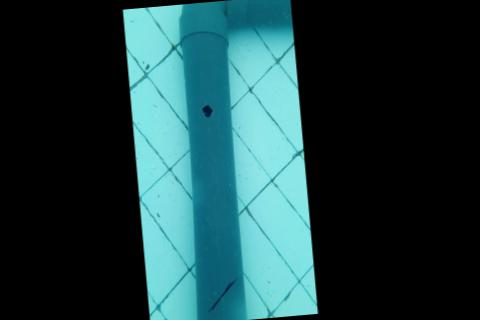kebocoran: (200, 102, 213, 120)
keretakan: (204, 277, 241, 315)
